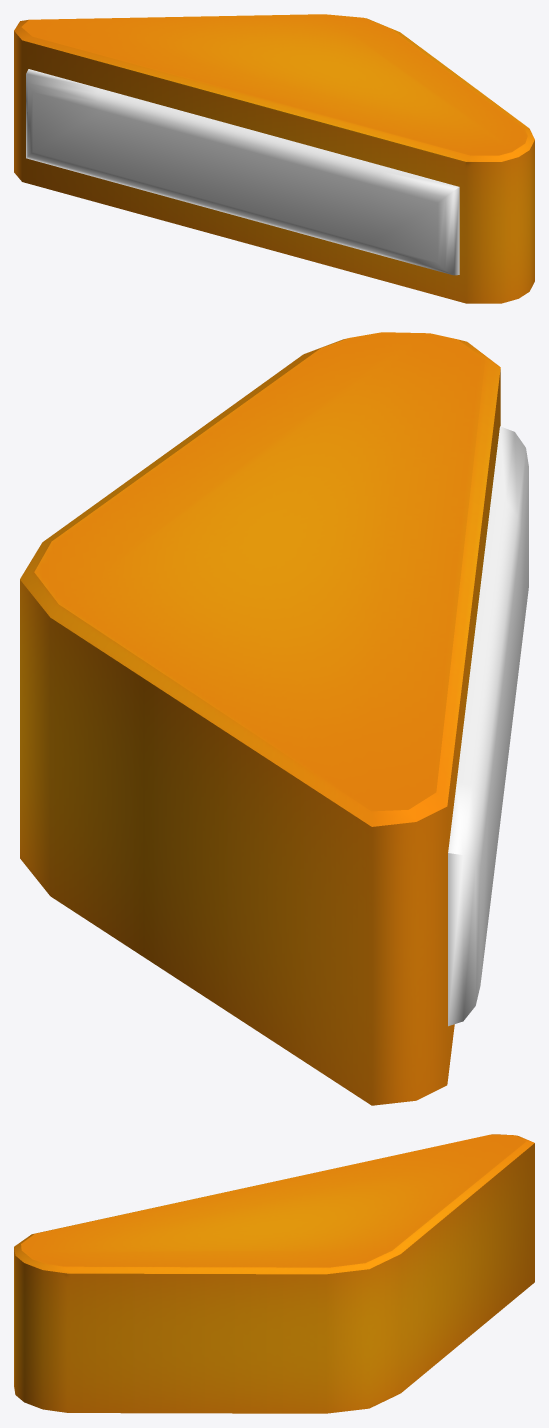
File: block_bumper_big.fbx
The picture shows the model from 3 angles, top to bottom: view 1: azimuth 30°, elevation 25°; view 2: azimuth 150°, elevation 25°; view 3: azimuth 270°, elevation 25°; orthographic projection. The views are drawn at different scales.
Visible parts, largest first — view 1: block_bumper_big, bumper; view 2: block_bumper_big, bumper; view 3: block_bumper_big.
Boxes of the visible parts, x1,y1,x2,y2 form: block_bumper_big: (14, 14, 534, 303); bumper: (26, 69, 459, 275); block_bumper_big: (20, 332, 500, 1105); bumper: (448, 426, 528, 1026); block_bumper_big: (14, 1134, 534, 1413).
Size of the model in its own units: 381 by 178 by 589.
1 material, 1 textured.
